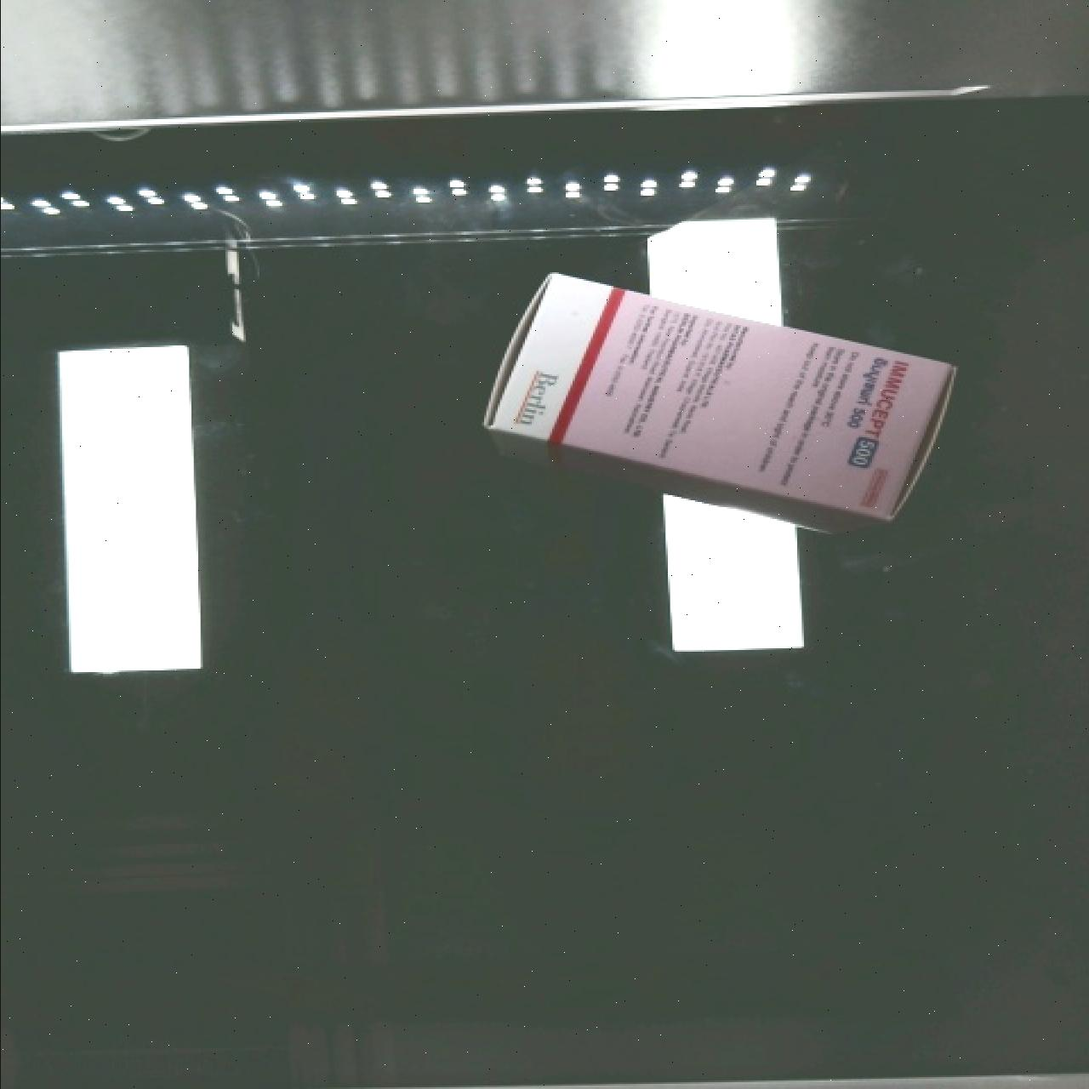medicine_label_obb: (831, 341, 924, 487)
